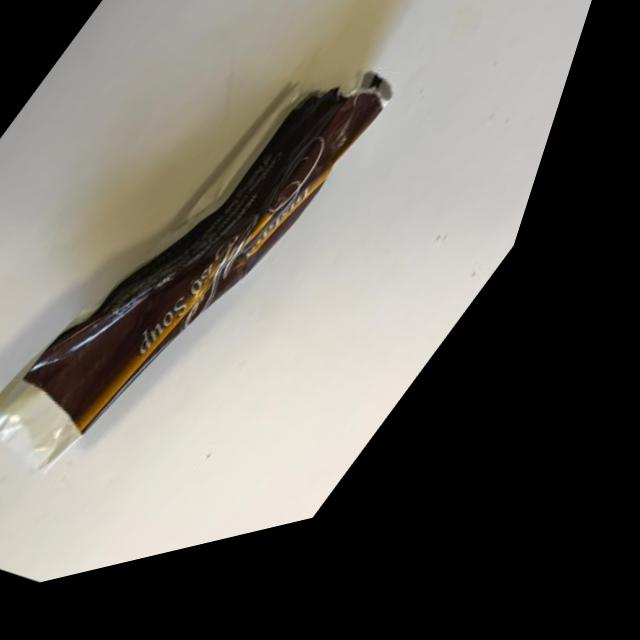trash: (0, 0, 503, 595)
